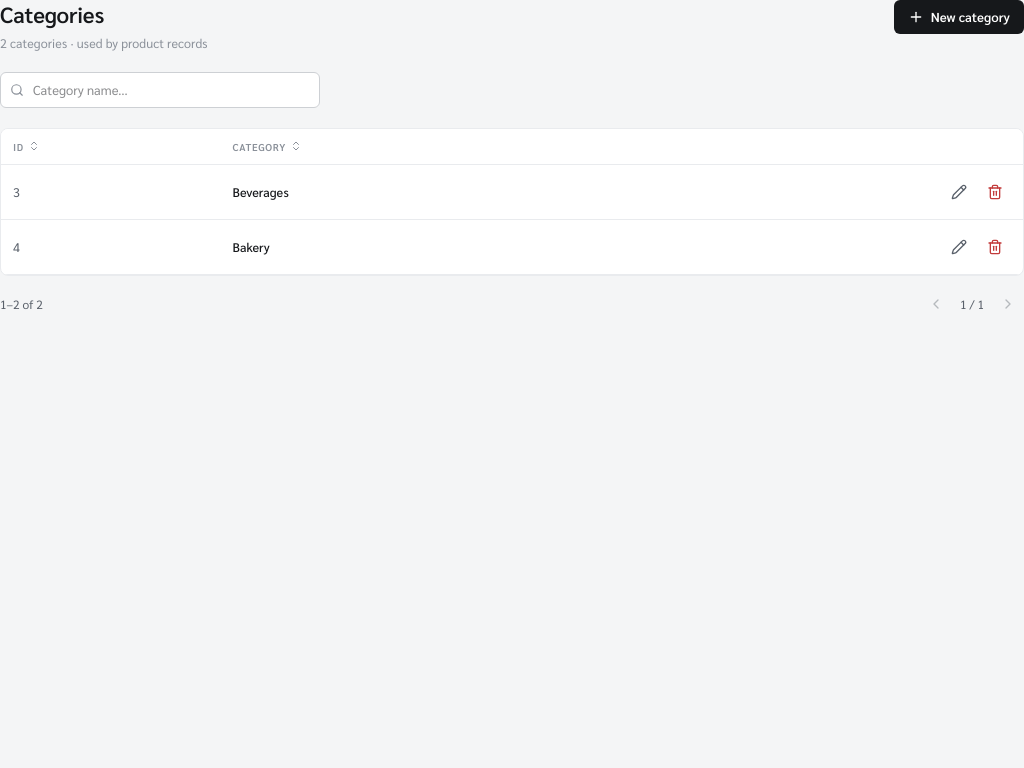
Test: MasterDataScreen via CategoriesView › blocks submit on an empty name (client zod)
Click the button "New category".
click(959, 17)  # box [894,0,1023,34]
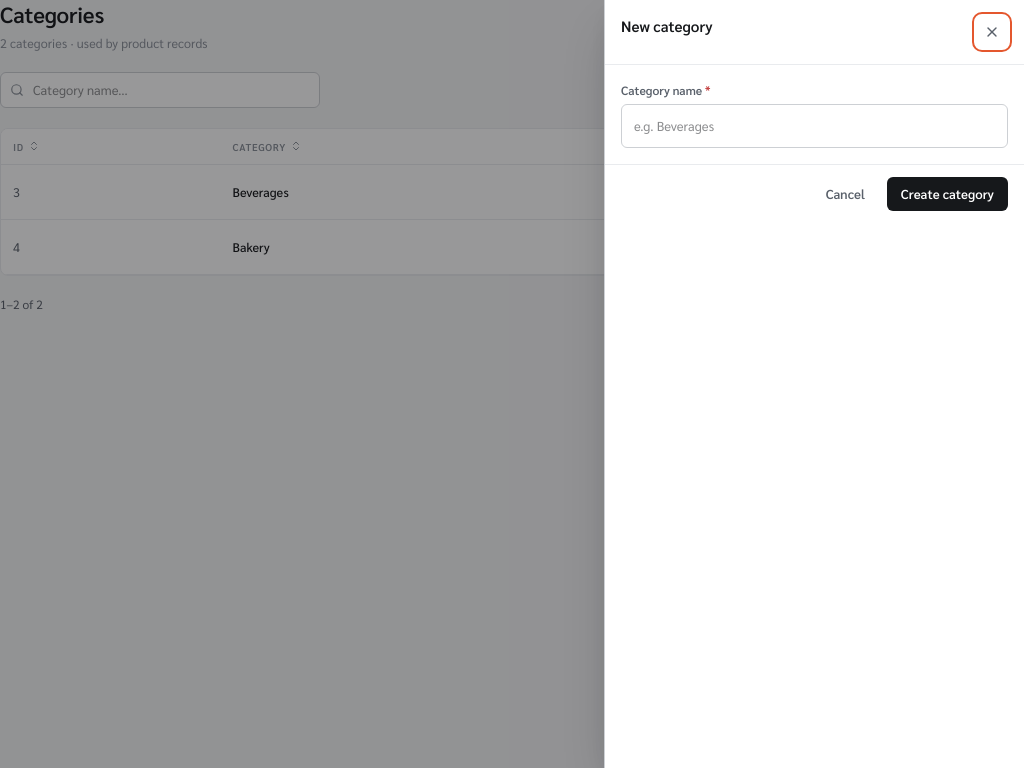
Click the button "Create category".
click(947, 194)  # box [887,177,1008,211]
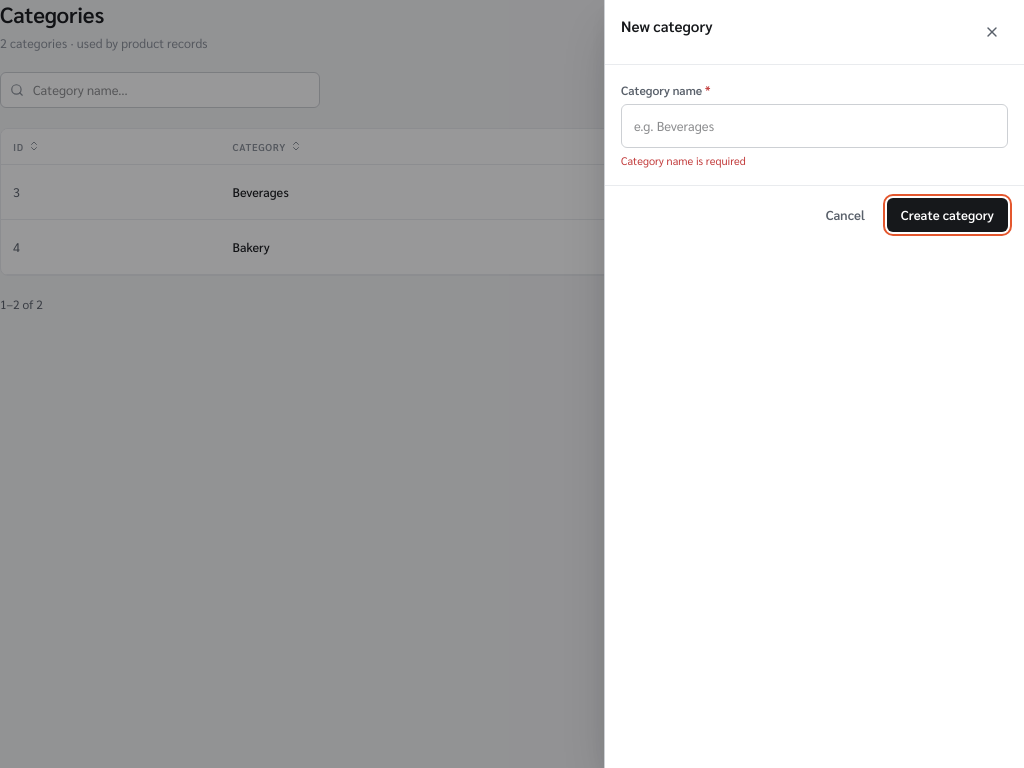
Now the text "Category name is required" is shown, box [621,153,746,168]
